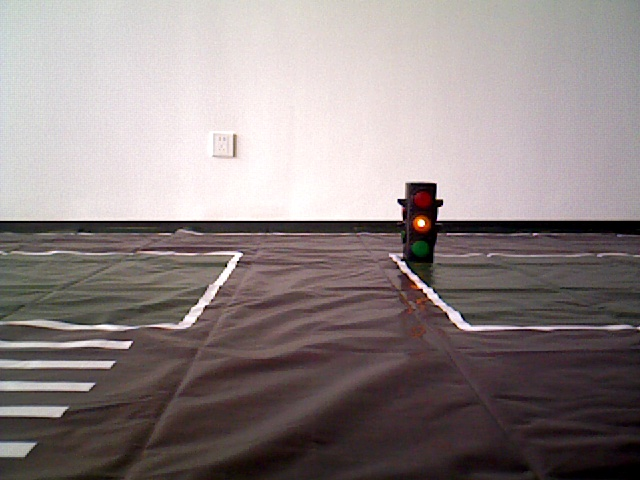yellow: (399, 180, 439, 265)
